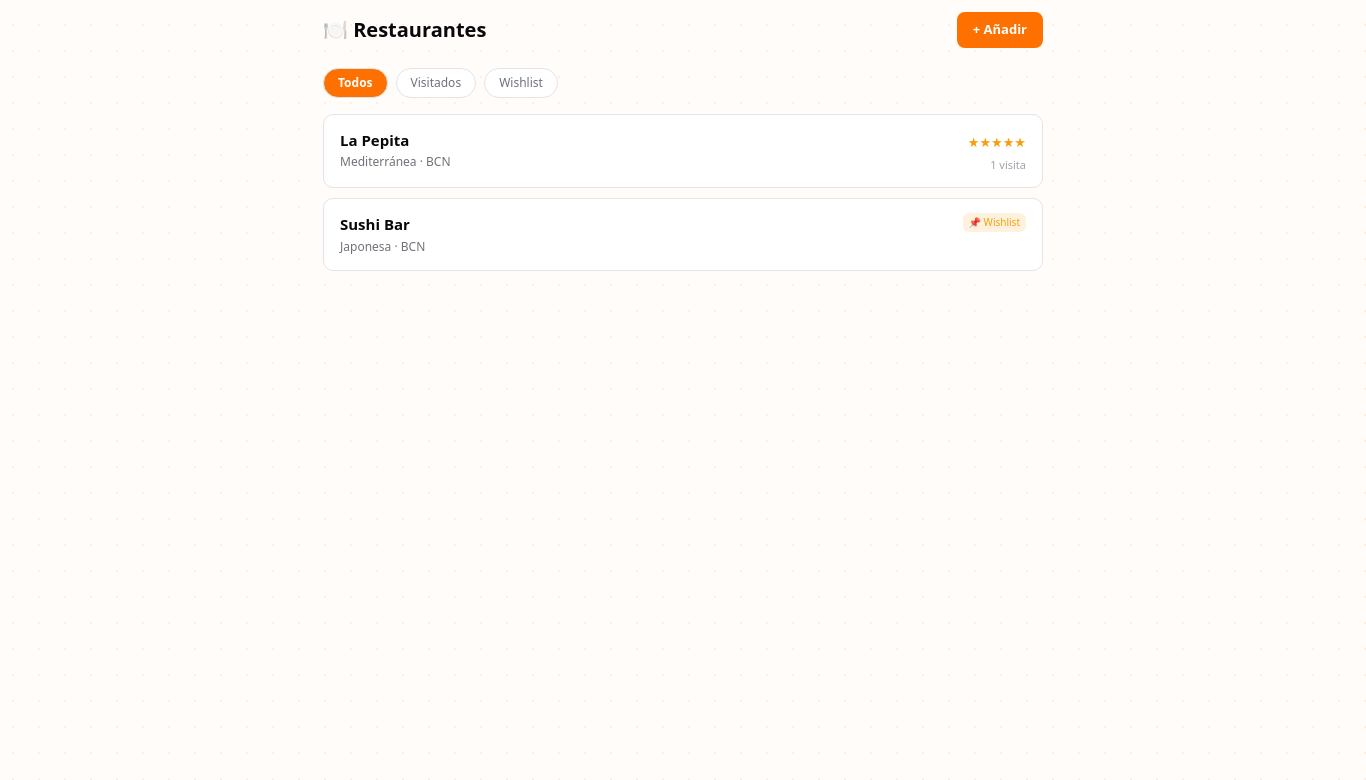
it: Restaurantes › shows detail view when clicking a restaurant
The image size is (1366, 780).
Click the text "La Pepita": (375, 140) [340,130,409,150]
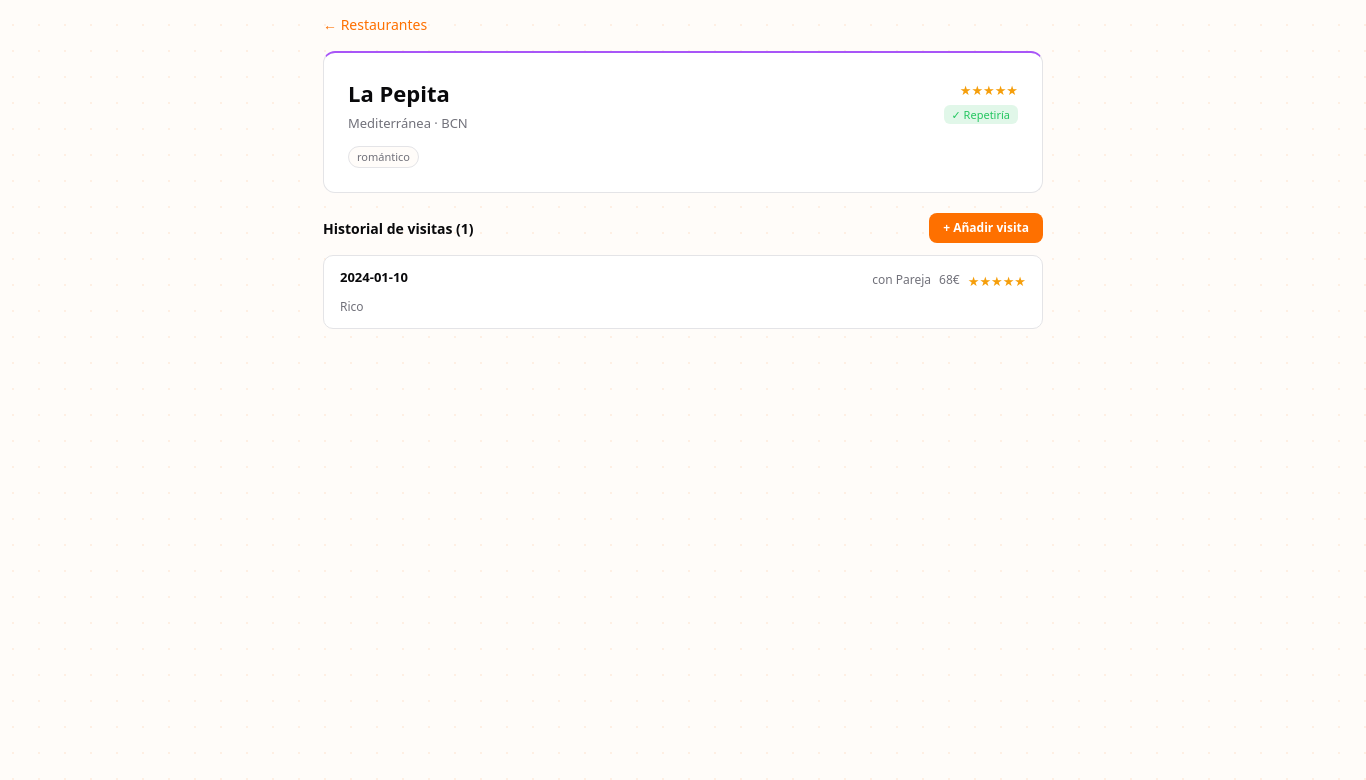
Now the heading "Historial de visitas (1)" is shown, box [323,218,474,238]
